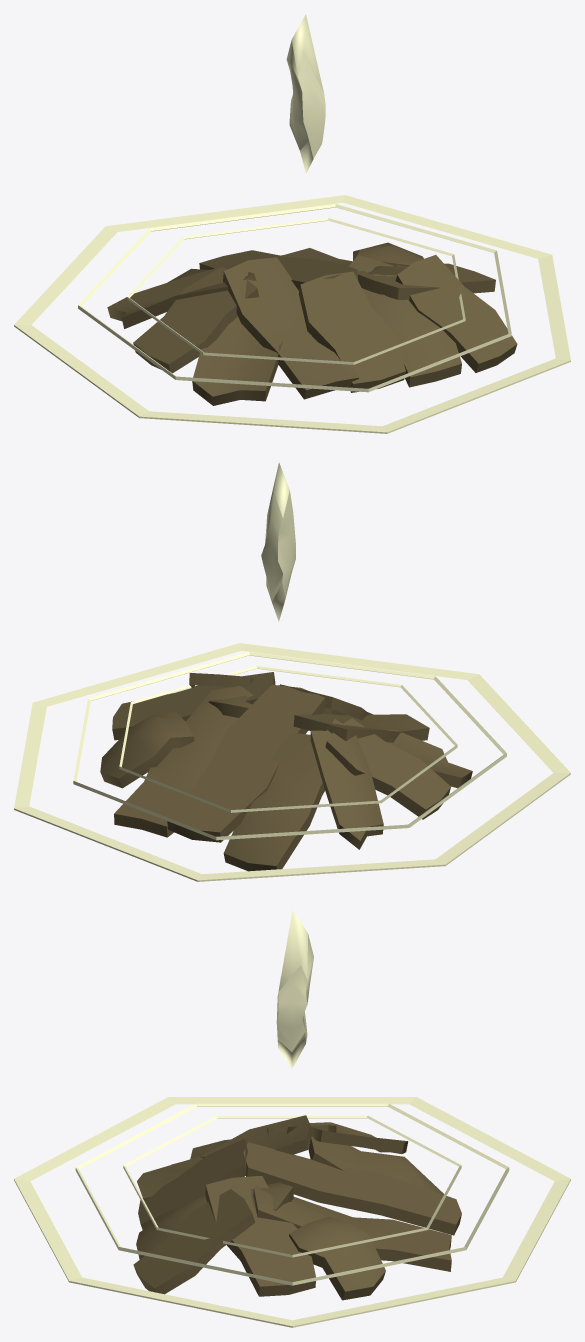
File: CampFire_elden ring.fbx
3 renders of one model, top to bottom at view 1: azimuth 30°, elevation 25°; view 2: azimuth 150°, elevation 25°; view 3: azimuth 270°, elevation 25°, orthographic.
Parts seen in each view (by area): view 1: pCube14, pTorus3, pTorus2, pCube1, pTorus1; view 2: pCube14, pTorus3, pTorus2, pCube1, pTorus1; view 3: pCube14, pTorus3, pTorus2, pCube1, pTorus1.
Boxes of the visible parts, left/top/right/bottom form: pCube14: left=107, top=242, right=517, bottom=405; pTorus3: left=14, top=195, right=570, bottom=433; pTorus2: left=78, top=204, right=511, bottom=392; pCube1: left=286, top=14, right=325, bottom=173; pTorus1: left=127, top=218, right=465, bottom=364; pCube14: left=100, top=672, right=472, bottom=871; pTorus3: left=14, top=643, right=570, bottom=881; pTorus2: left=73, top=652, right=506, bottom=840; pCube1: left=261, top=462, right=295, bottom=621; pTorus1: left=119, top=666, right=457, bottom=812; pCube14: left=133, top=1115, right=461, bottom=1300; pTorus3: left=14, top=1097, right=570, bottom=1327; pTorus2: left=75, top=1103, right=509, bottom=1285; pCube1: left=276, top=910, right=313, bottom=1068; pTorus1: left=123, top=1115, right=461, bottom=1257.
Bounding box in the file's own units: 6.62 × 4.53 × 6.79.
